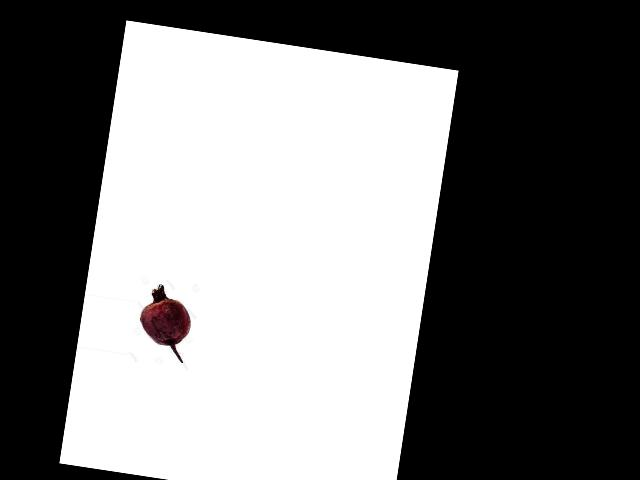beet: (135, 282, 195, 362)
